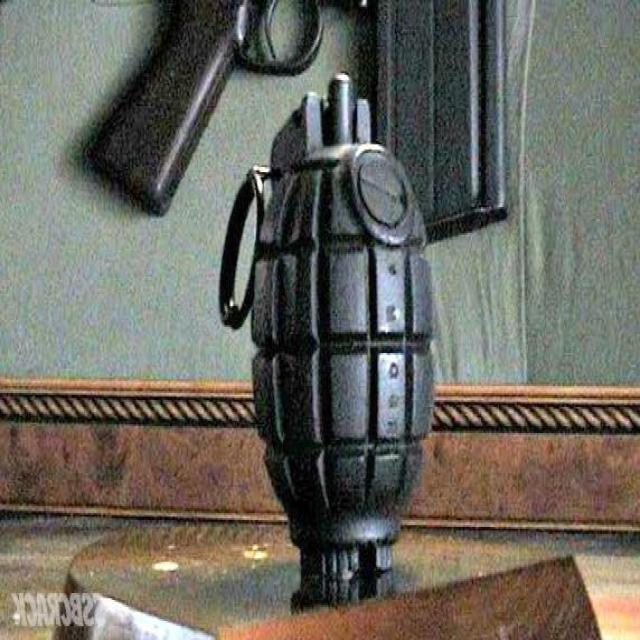grenade: (219, 76, 439, 584), (127, 1, 506, 218)
